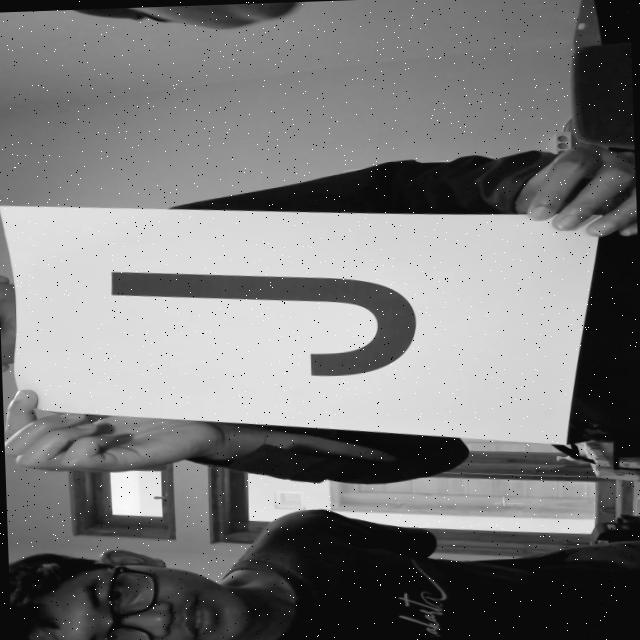j: (80, 252, 460, 408)
